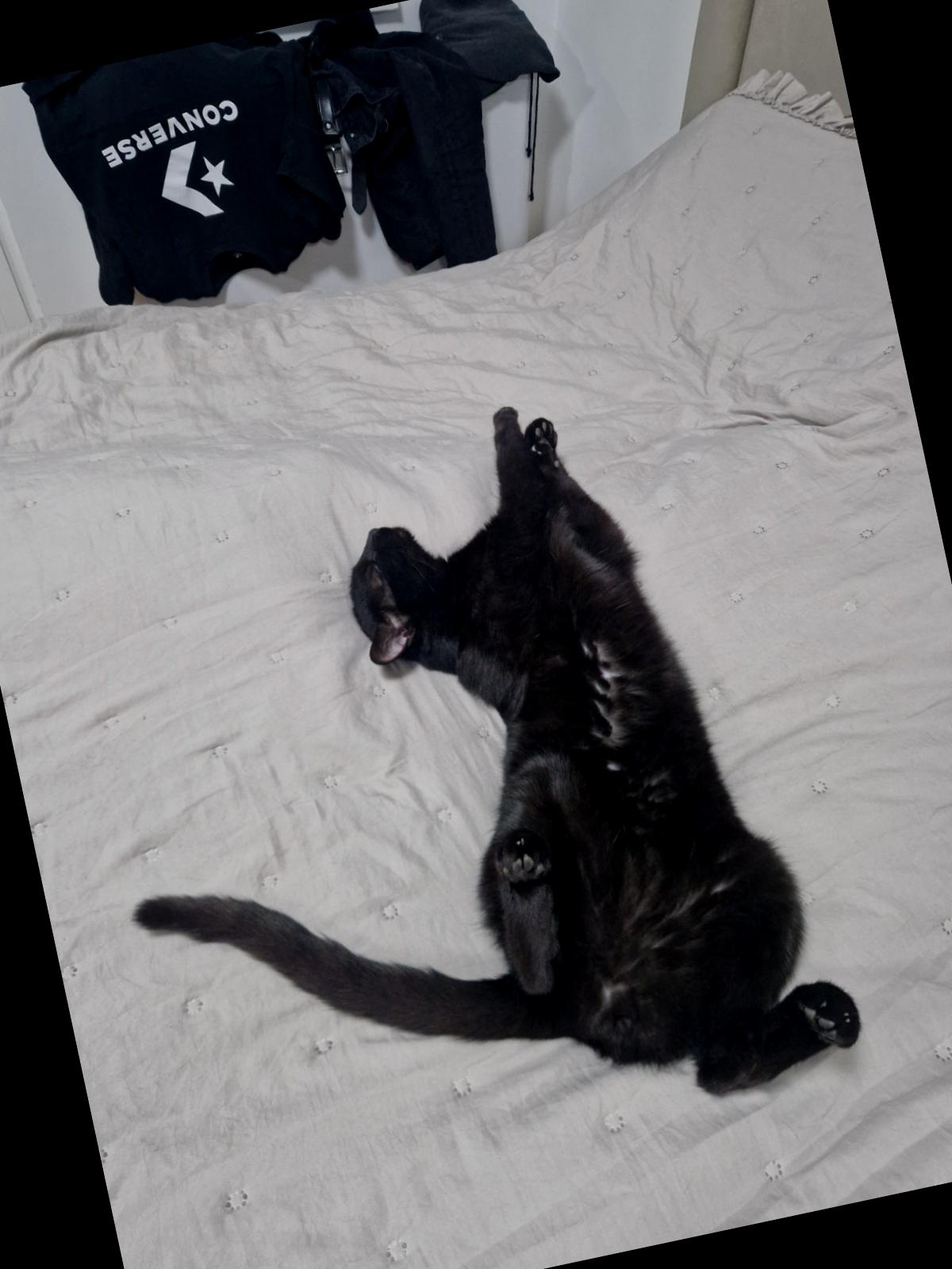macka: (31, 354, 871, 1216)
